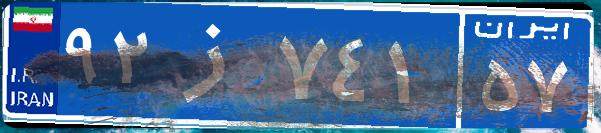1: (385, 28, 445, 110)
2: (110, 28, 158, 105)
4: (330, 28, 385, 110)
5: (475, 38, 525, 113)
7: (273, 28, 330, 110), (525, 38, 570, 115)
9: (57, 26, 110, 107)
ز: (158, 15, 273, 115)
